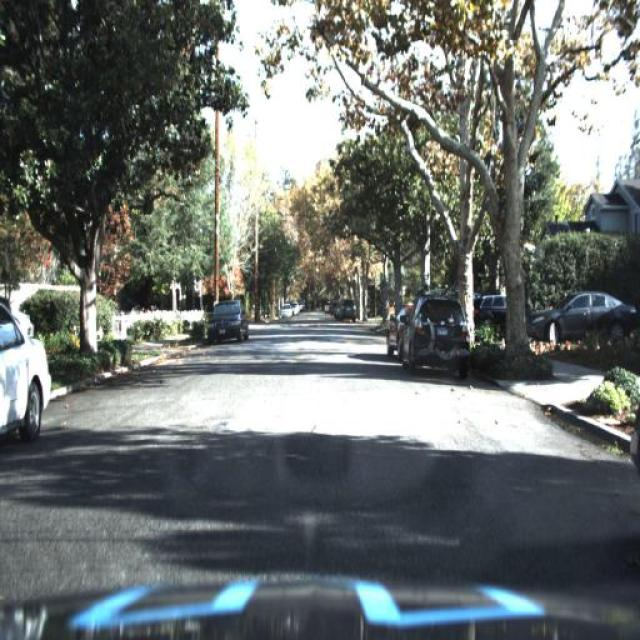car: (524, 278, 637, 354), (0, 299, 52, 448), (527, 288, 639, 348), (404, 296, 466, 366), (468, 281, 511, 334), (471, 285, 523, 325), (208, 298, 248, 338), (383, 303, 398, 359), (337, 298, 355, 324)
